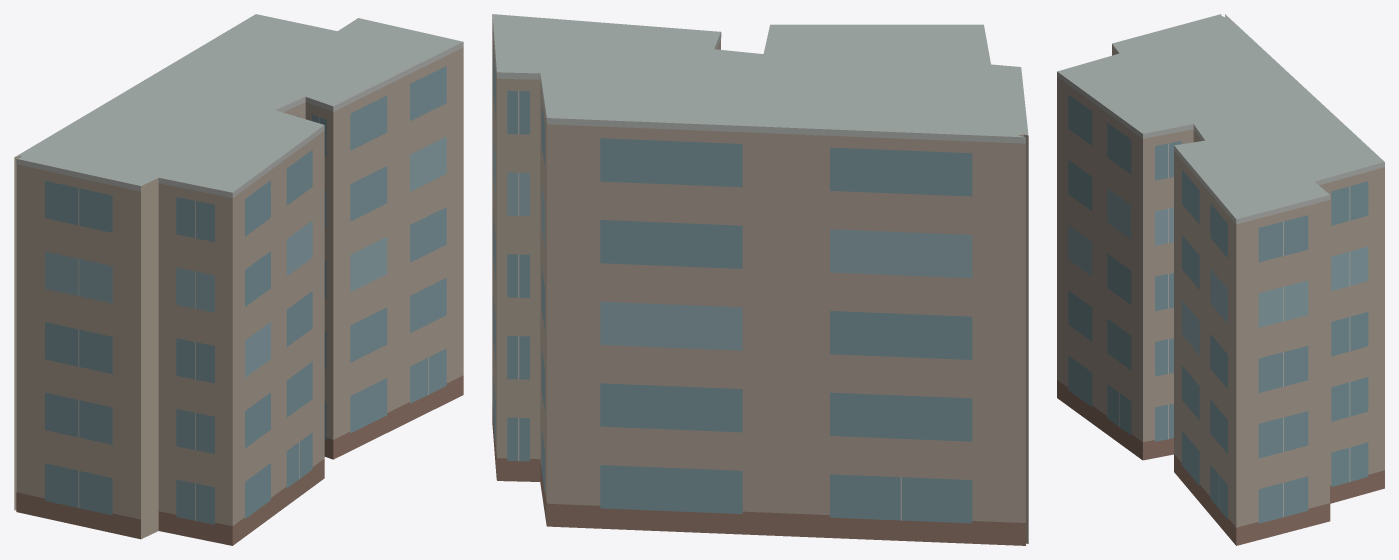
Rendered from survey-upis-32652489.glb.
3 views of the same model, side by side, from view 1: azimuth 30°, elevation 25°; view 2: azimuth 150°, elevation 25°; view 3: azimuth 270°, elevation 25° (orthographic). The views are drawn at different scales.
Parts seen in each view (by area): view 1: survey-upis-32652489.tmp; view 2: survey-upis-32652489.tmp; view 3: survey-upis-32652489.tmp.
Boxes of the visible parts, x1,y1,x2,y2 form: survey-upis-32652489.tmp: [14, 14, 463, 545]; survey-upis-32652489.tmp: [492, 14, 1028, 545]; survey-upis-32652489.tmp: [1057, 14, 1384, 545].
Size of the model in its own units: 21.19 by 15.7 by 14.29.
